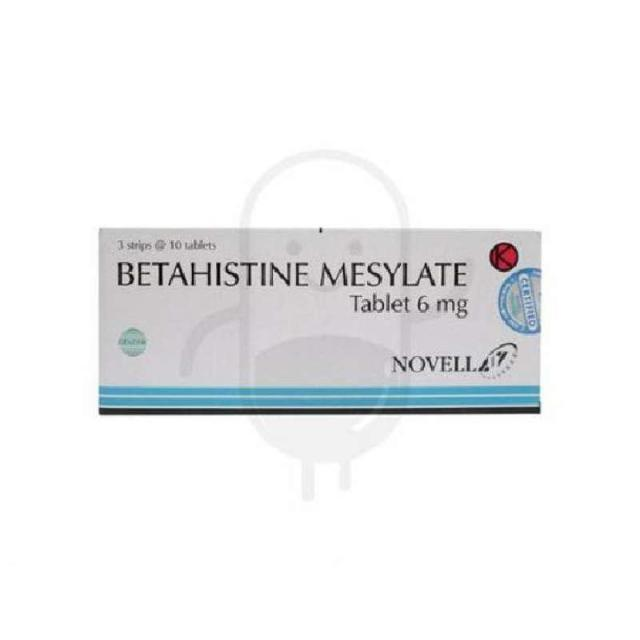drug-name: (115, 253, 474, 288)
